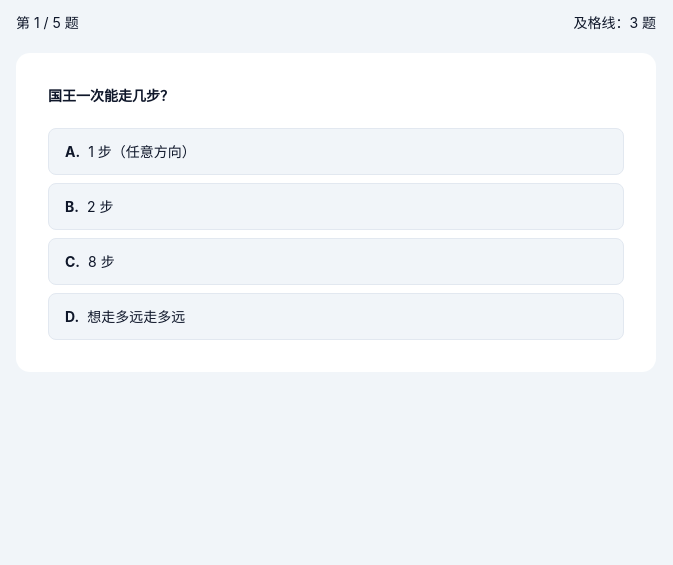
Test: QuizPage › shows wrong feedback with correct answer when user picks wrong
Expected: the heading "国王一次能走几步？" is shown, [48,87,174,104]
Step 1. Click the button "B.2 步" → (70, 206), box [48,183,624,230]
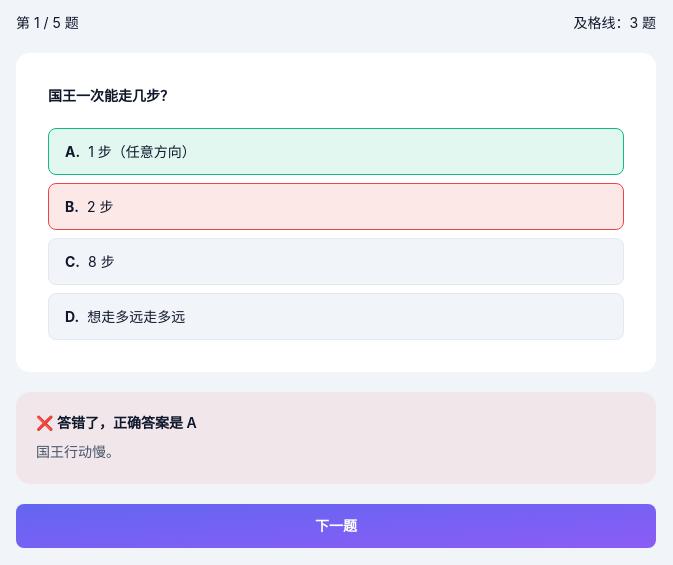
Expected: the text "国王行动慢。" is shown, [36,443,120,460]
Expected: the text "❌ 答错了，正确答案是 A" is shown, [36,414,197,431]
